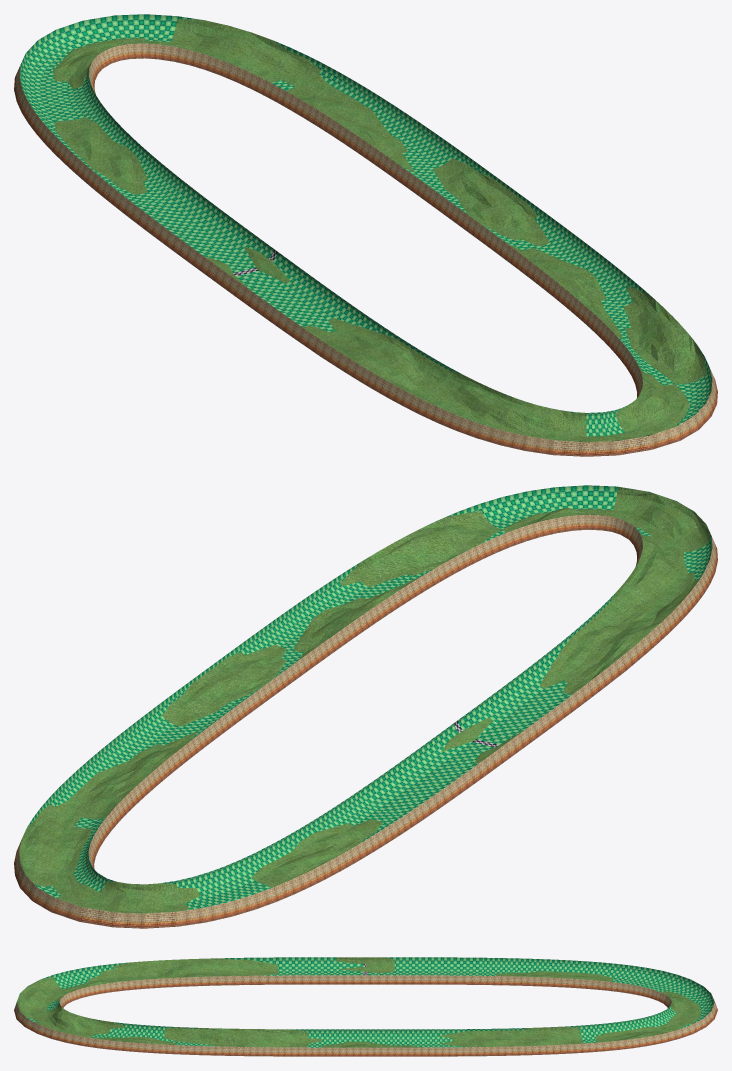
The picture shows the model from 3 angles, top to bottom: view 1: azimuth 30°, elevation 25°; view 2: azimuth 150°, elevation 25°; view 3: azimuth 270°, elevation 25°; orthographic projection. The views are drawn at different scales.
Visible parts, largest first — view 1: course-COM-MOT_STAGE136-69125-Gravityroad.001, course-COM-MOT_STAGE136-69125-Road.001, course-COM-MOT_STAGE136-69125-Wall.001; view 2: course-COM-MOT_STAGE136-69125-Gravityroad.001, course-COM-MOT_STAGE136-69125-Road.001, course-COM-MOT_STAGE136-69125-Wall.001; view 3: course-COM-MOT_STAGE136-69125-Gravityroad.001, course-COM-MOT_STAGE136-69125-Road.001, course-COM-MOT_STAGE136-69125-Wall.001.
Part boxes in pixels (box(x1,y1,x2,y2)): course-COM-MOT_STAGE136-69125-Gravityroad.001: box(53, 19, 706, 442); course-COM-MOT_STAGE136-69125-Road.001: box(19, 14, 712, 436); course-COM-MOT_STAGE136-69125-Wall.001: box(14, 43, 717, 456); course-COM-MOT_STAGE136-69125-Gravityroad.001: box(19, 486, 710, 913); course-COM-MOT_STAGE136-69125-Road.001: box(19, 485, 712, 910); course-COM-MOT_STAGE136-69125-Wall.001: box(14, 514, 717, 928); course-COM-MOT_STAGE136-69125-Gravityroad.001: box(17, 957, 701, 1047); course-COM-MOT_STAGE136-69125-Road.001: box(16, 957, 714, 1047); course-COM-MOT_STAGE136-69125-Wall.001: box(14, 975, 717, 1056).
Size of the model in its own units: 40367 by 2637 by 128866.
Materials: 5 (5 with a texture image).
